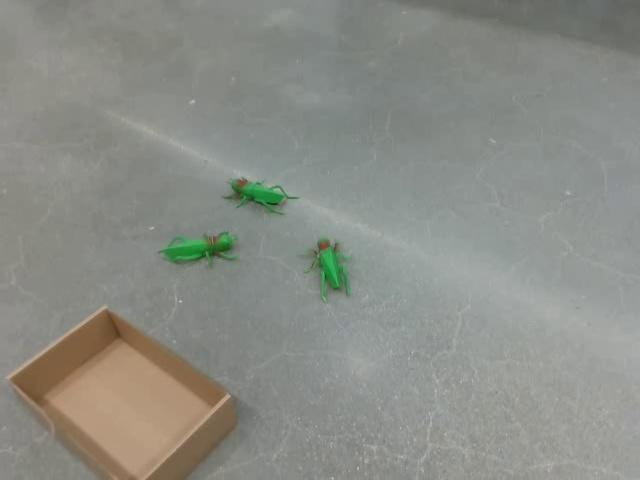box: (5, 304, 238, 479)
grasshopper: (303, 237, 352, 304), (222, 175, 299, 215), (157, 229, 238, 267)
